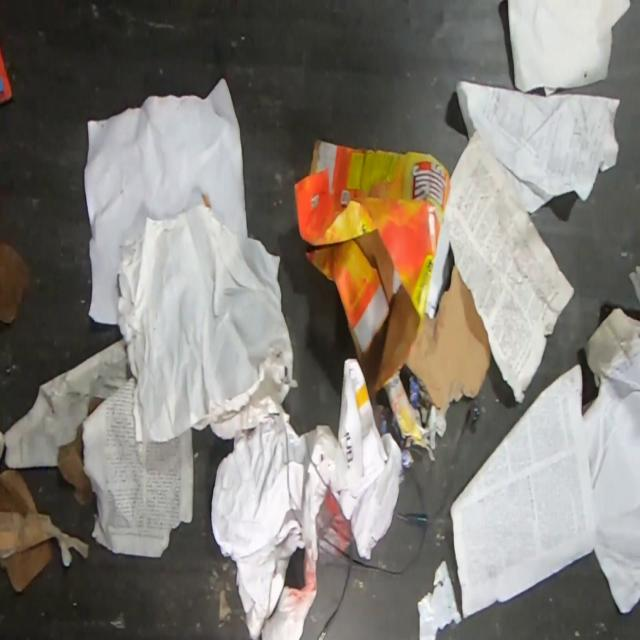cardboard: (294, 137, 451, 401), (404, 263, 492, 410), (57, 422, 94, 507), (0, 240, 31, 322)
